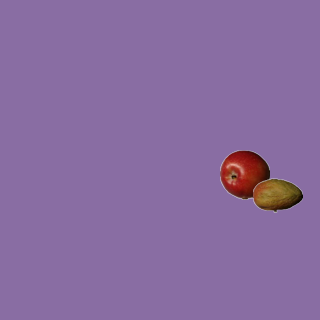Apple Braeburn: (219, 149, 269, 199)
Papaya: (252, 170, 302, 220)
